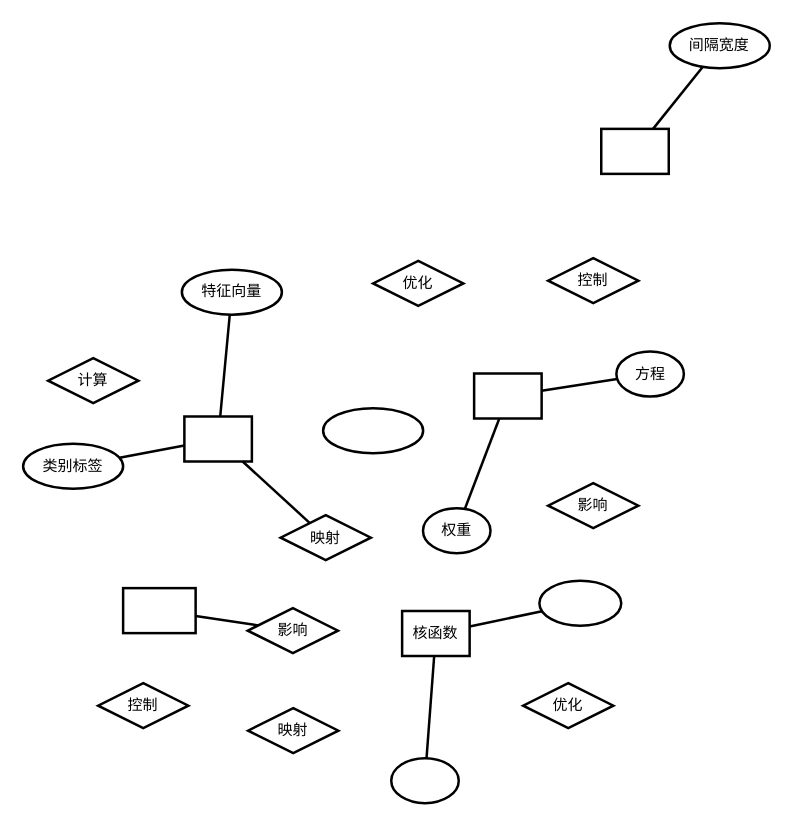
Some shapes in this 793 by 825 pixel diagram are drawn without their labels. The box of each missing label's shape, as (x1, y1, x2, y2) in pixels:
参数: (389, 756, 459, 804)
支持向量: (121, 586, 196, 634)
数据点: (182, 415, 252, 462)
映射维度: (321, 406, 424, 454)
核类型: (538, 579, 622, 626)
超平面: (472, 372, 542, 419)
间隔: (599, 127, 669, 174)
